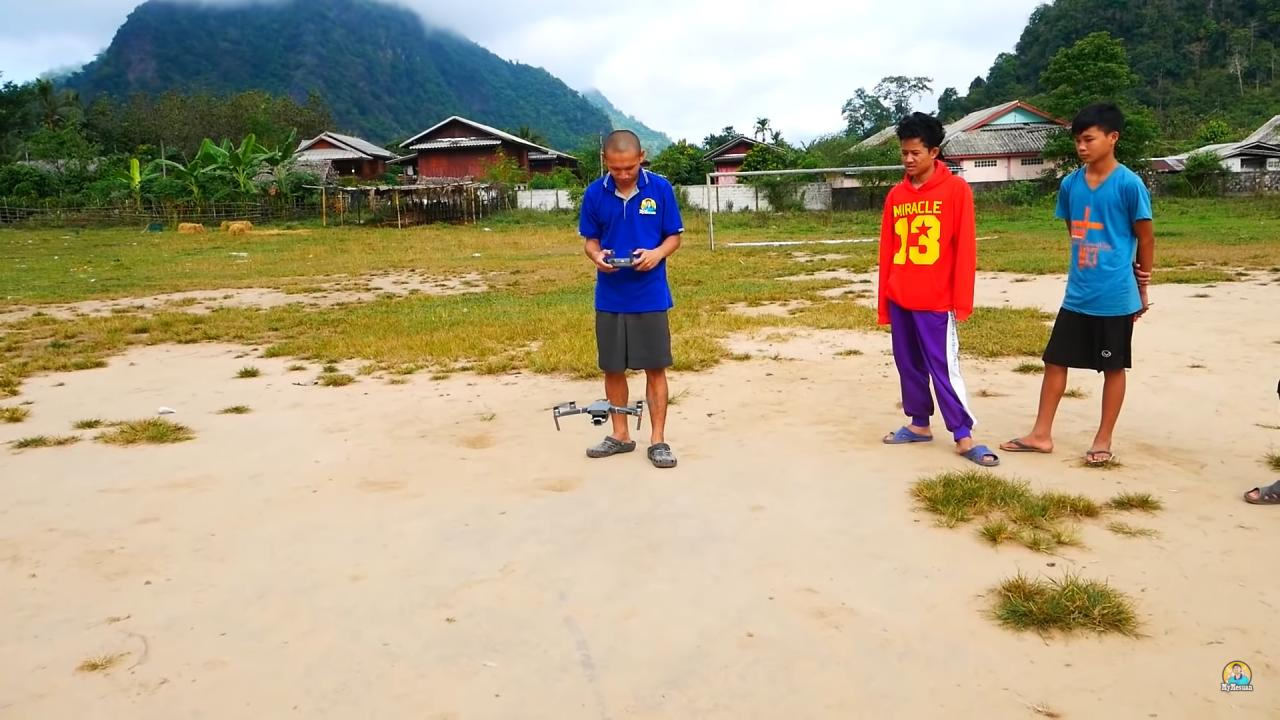Drone: (530, 386, 666, 440)
